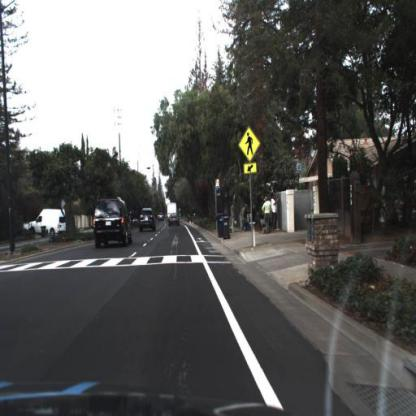car: (93, 196, 133, 252), (22, 205, 69, 238), (138, 205, 158, 235), (168, 210, 180, 229), (157, 211, 166, 224)
pedestrian: (271, 193, 283, 236), (262, 195, 272, 235), (238, 201, 249, 237), (261, 198, 272, 234), (272, 191, 281, 230), (230, 203, 238, 226)
truck: (165, 202, 178, 228)
